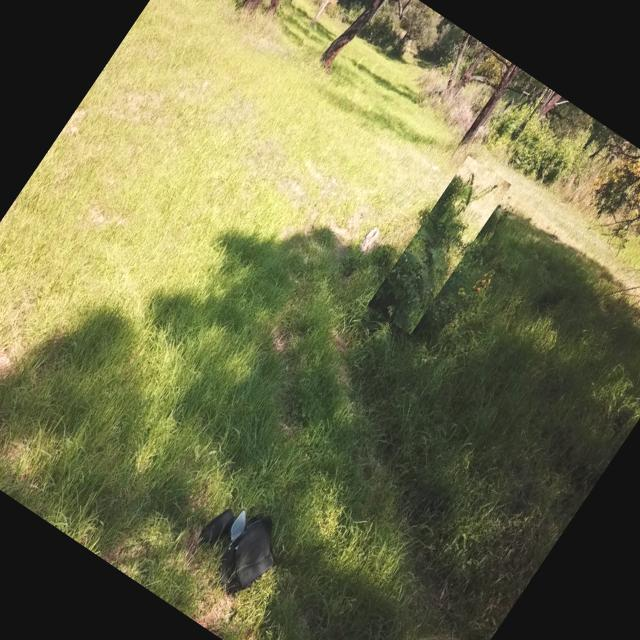Mysore-Thorn-Weed: (367, 156, 511, 335)
